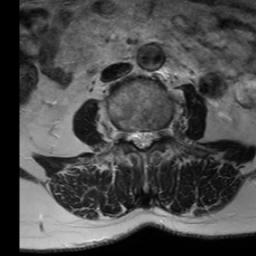CCS_stenosis: (139, 122, 147, 157)
LFS_normal: (154, 119, 164, 144)
LLS_normal: (147, 123, 154, 150)
RFS_normal: (119, 122, 129, 148)
RLS_normal: (129, 123, 139, 151)
